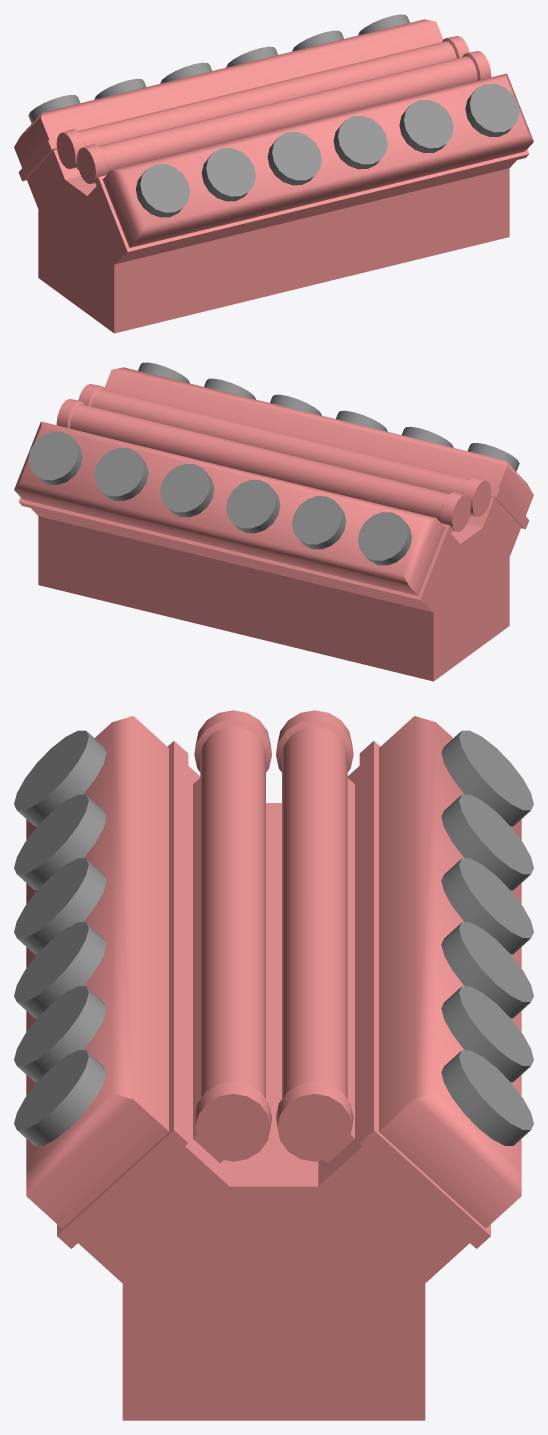
The model's file is SM_DieselV12.gltf.
The picture shows the model from 3 angles, top to bottom: view 1: azimuth 30°, elevation 25°; view 2: azimuth 150°, elevation 25°; view 3: azimuth 270°, elevation 25°; orthographic projection. The views are drawn at different scales.
Visible parts, largest first — view 1: SM_DieselV12; view 2: SM_DieselV12; view 3: SM_DieselV12.
Boxes of the visible parts, left/top/right/bottom form: SM_DieselV12: left=14, top=14, right=533, bottom=333; SM_DieselV12: left=14, top=362, right=533, bottom=681; SM_DieselV12: left=14, top=710, right=533, bottom=1420.
Bounding box in the file's own units: 1.83 × 0.7278 × 1.03.
